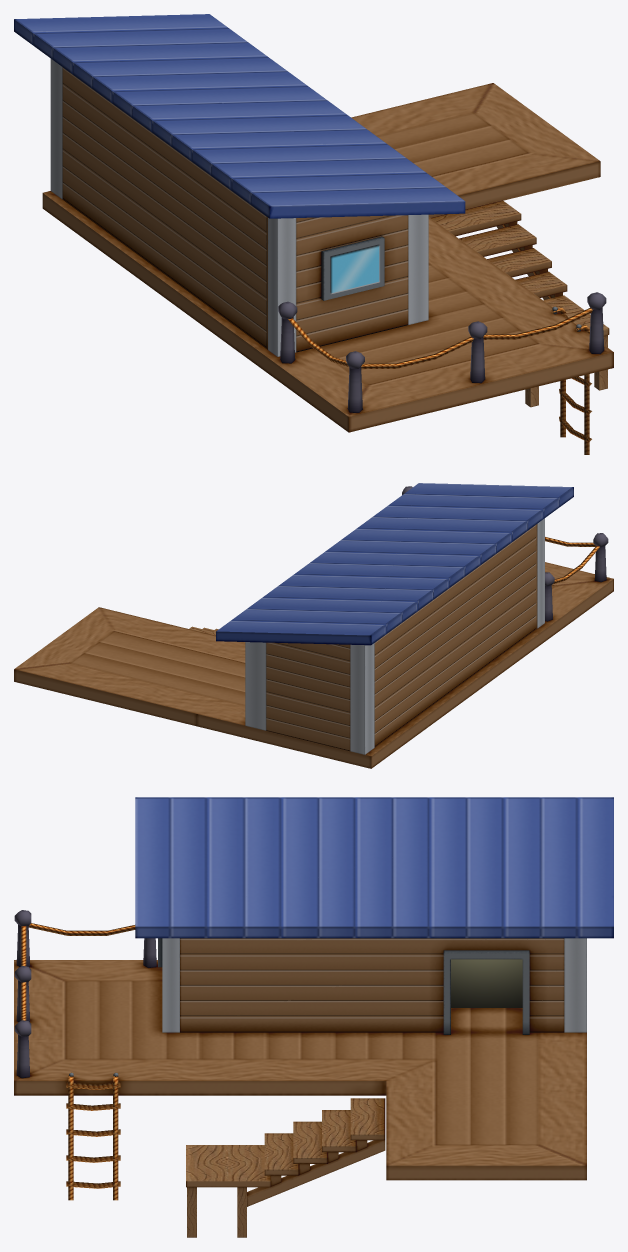
Rendered from harbor.obj.
The picture shows the model from 3 angles, top to bottom: view 1: azimuth 30°, elevation 25°; view 2: azimuth 150°, elevation 25°; view 3: azimuth 270°, elevation 25°; orthographic projection. The views are drawn at different scales.
Parts seen in each view (by area): view 1: harbor_geo; view 2: harbor_geo; view 3: harbor_geo.
Part boxes in pixels (x1,y1,x2,y2): harbor_geo: (14, 14, 613, 454); harbor_geo: (14, 483, 613, 768); harbor_geo: (14, 797, 613, 1237).
Size of the model in its own units: 17.54 by 10.51 by 20.94.
Materials: 1 (1 with a texture image).
